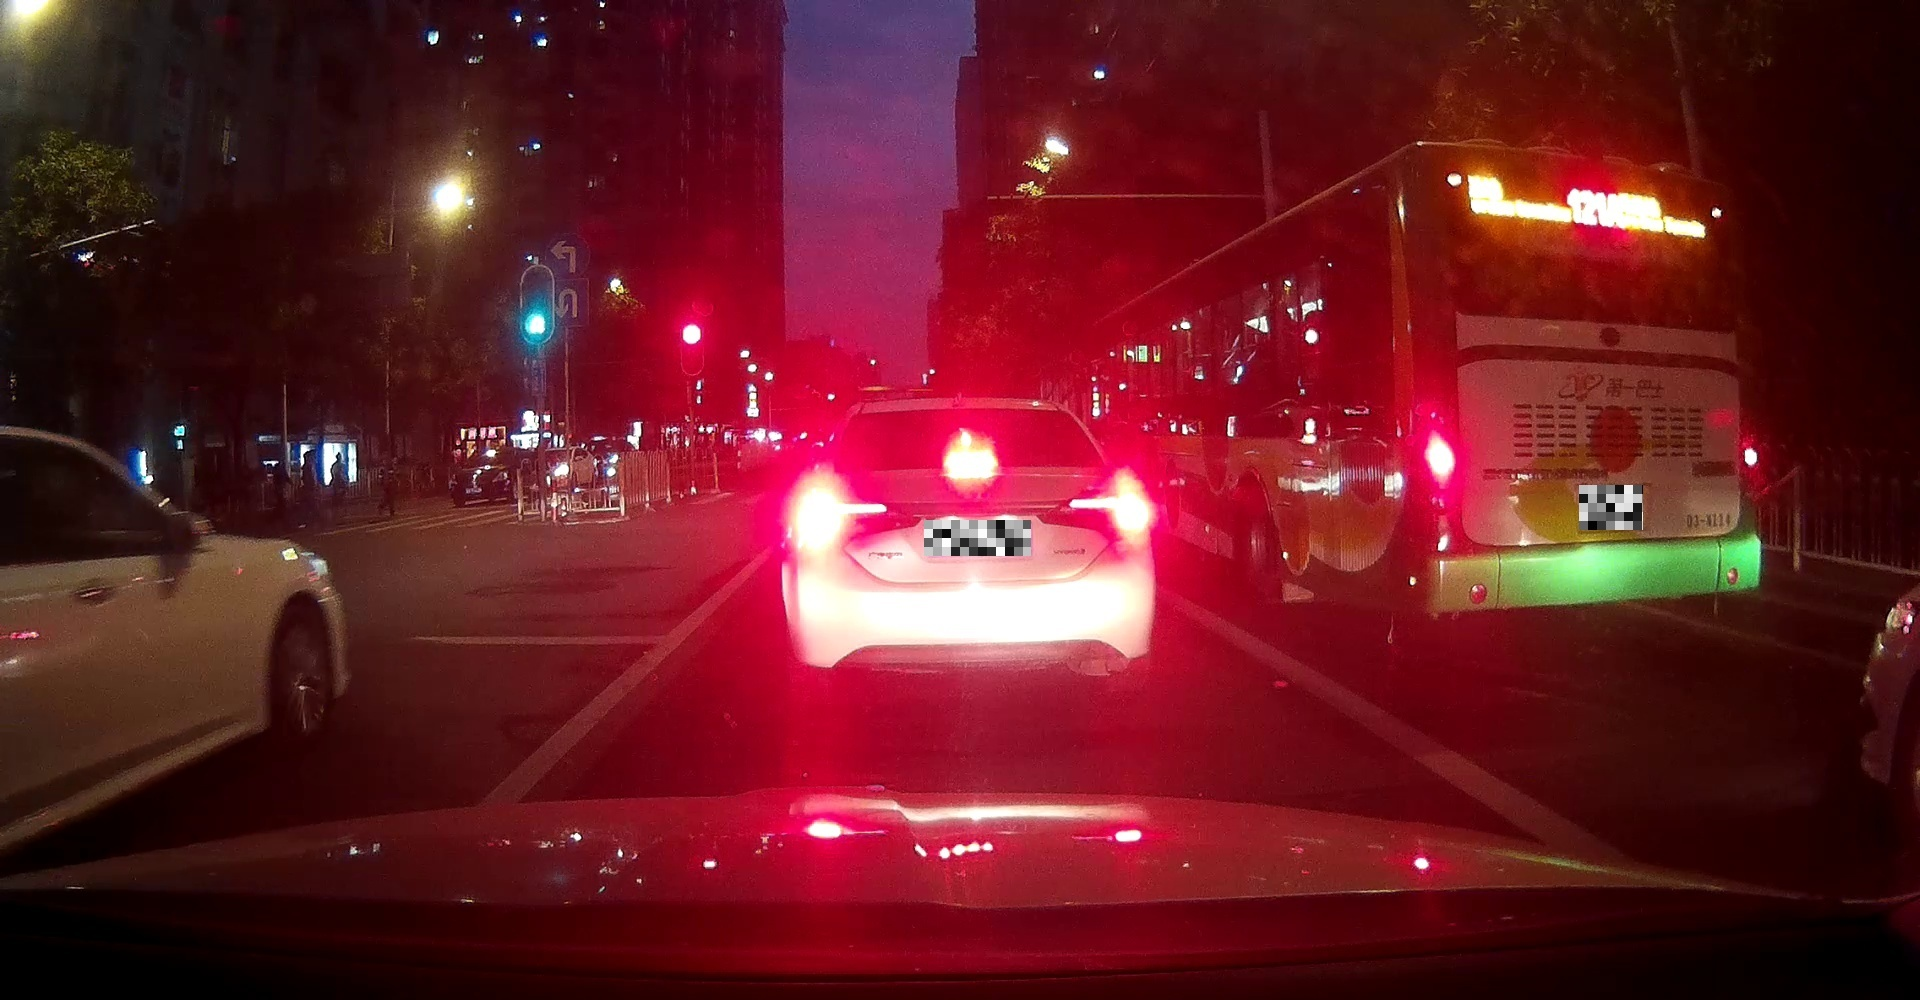L_light: (786, 468, 889, 558), (1412, 406, 1462, 506)
R_light: (1067, 467, 1156, 537), (1738, 423, 1761, 490)
T_light: (941, 431, 997, 489), (1563, 168, 1615, 187)
night-brake: (780, 398, 1157, 685)
night-no: (1410, 140, 1763, 643)
plate_1: (924, 520, 1031, 556)
plate_2: (1578, 485, 1643, 530)
